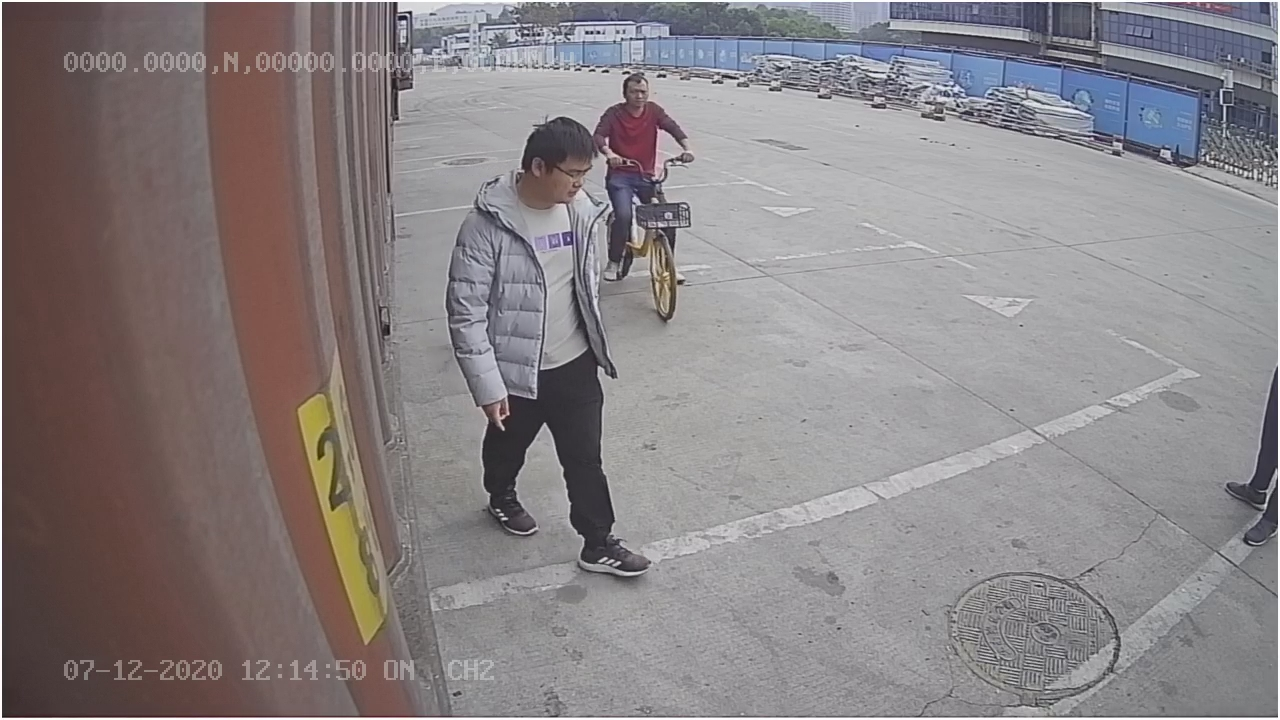person: (443, 113, 652, 579)
